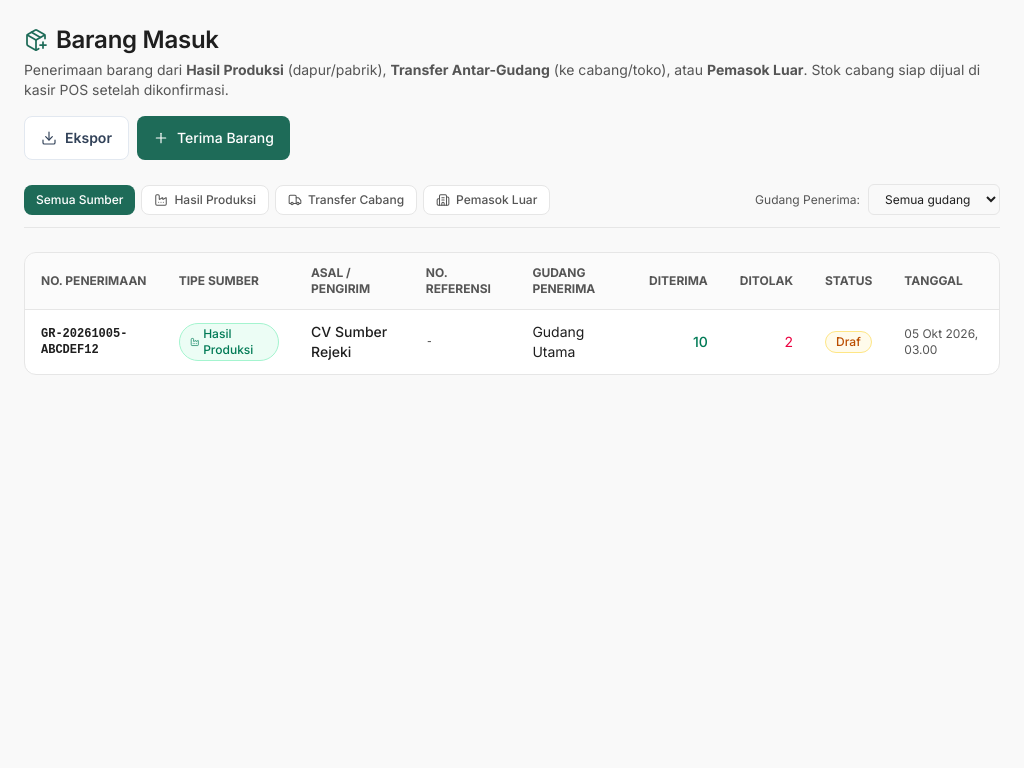
Test case: Barang Masuk page › asks for confirmation before posting a draft
What coordinates should you click on to do the following:
click the text "GR-20261005-ABCDEF12"
I would click on:
 (94, 342)
Its box is [25,310,163,374].
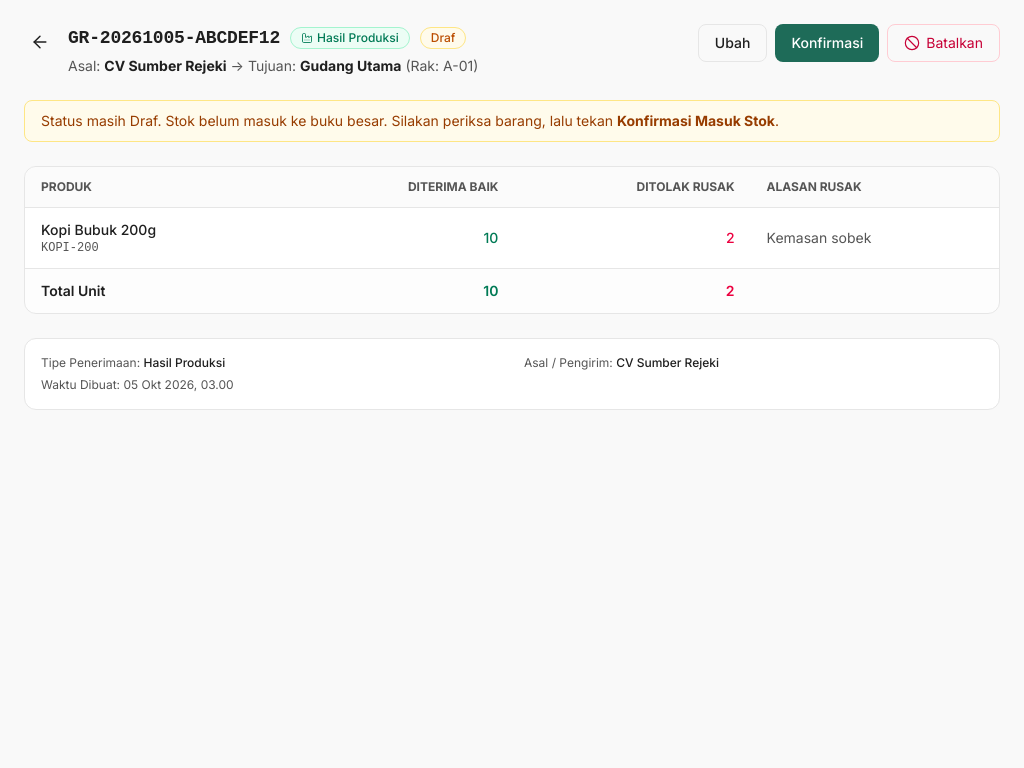
What coordinates should you click on to do the following:
click the button "Konfirmasi"
I would click on:
 (827, 43)
Its box is [775,24,879,62].
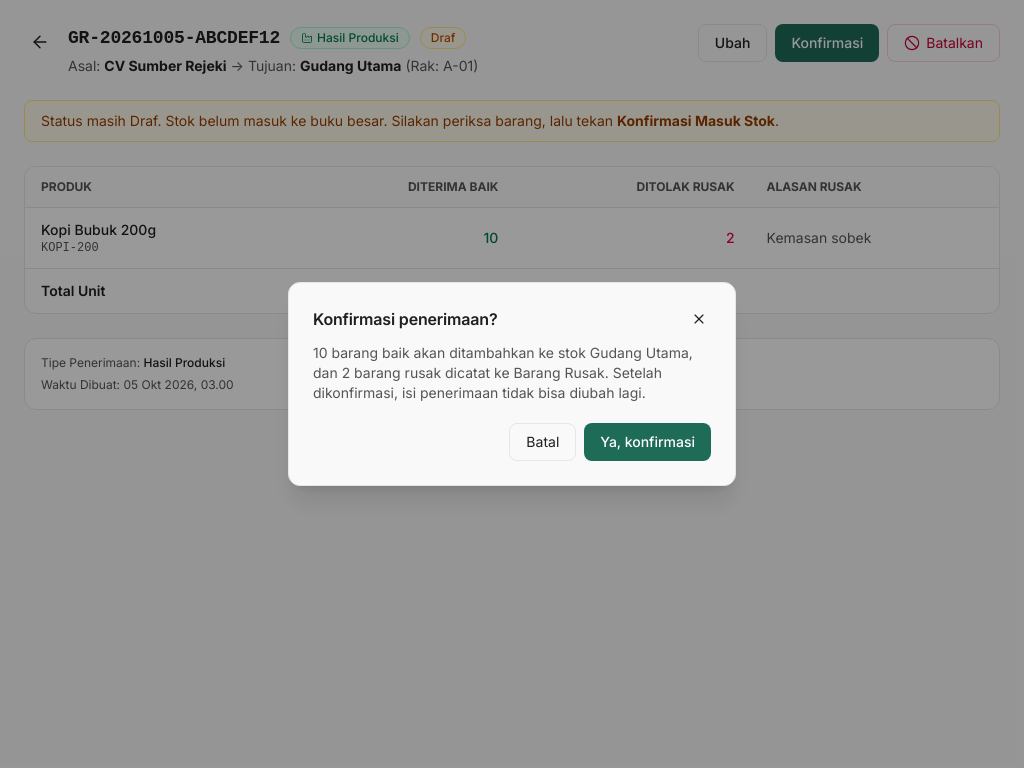
Expected: the dialog "Konfirmasi penerimaan" shows "dicatat ke Barang Rusak", [313,344,693,381]
What coordinates should you click on to do the following:
click the button "Ya, konfirmasi"
I would click on:
 (648, 442)
Its box is [584,423,711,461].
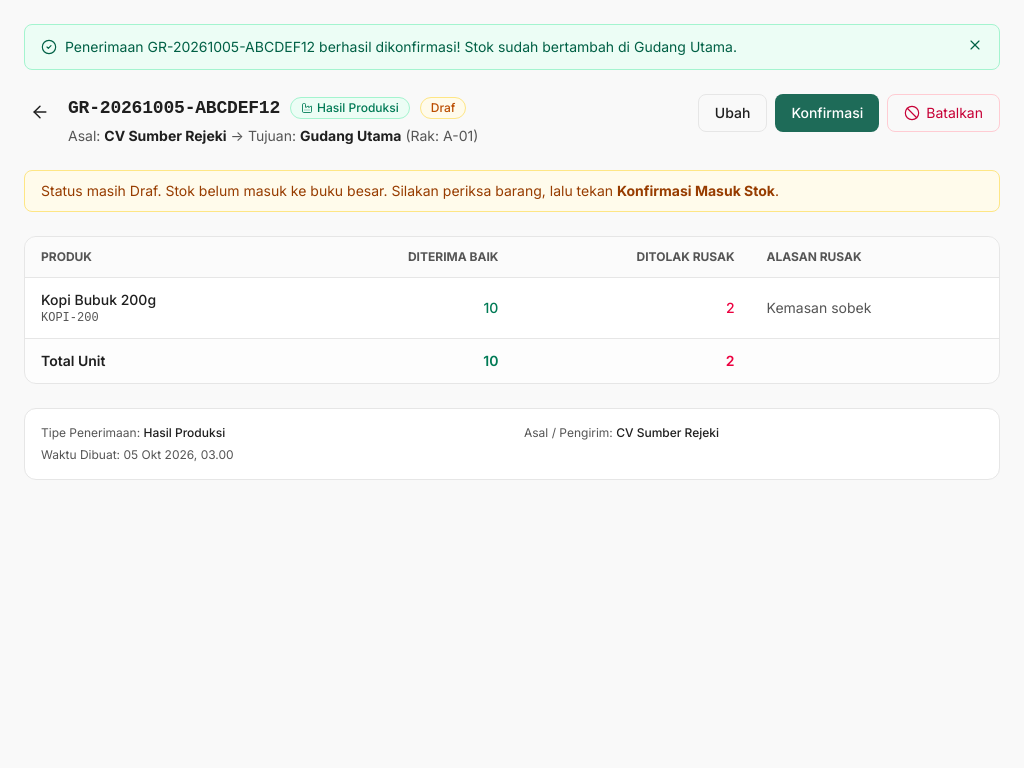
Expected: the message shows "Stok sudah bertambah", [65,38,737,55]
